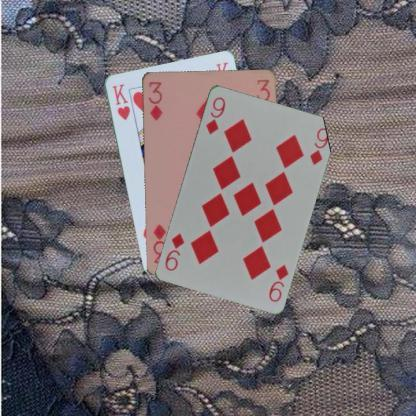3d: (146, 78, 164, 122)
9d: (202, 94, 226, 136), (266, 262, 290, 302)
Kh: (109, 80, 131, 122)
